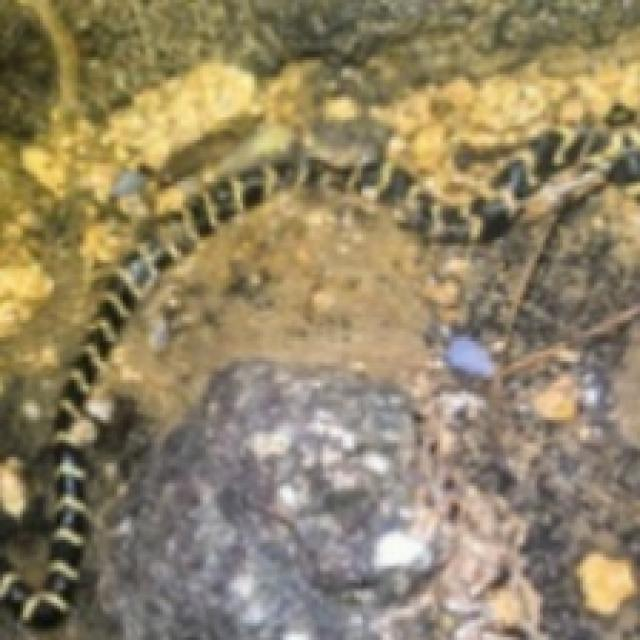king cobra: (0, 74, 637, 637)
